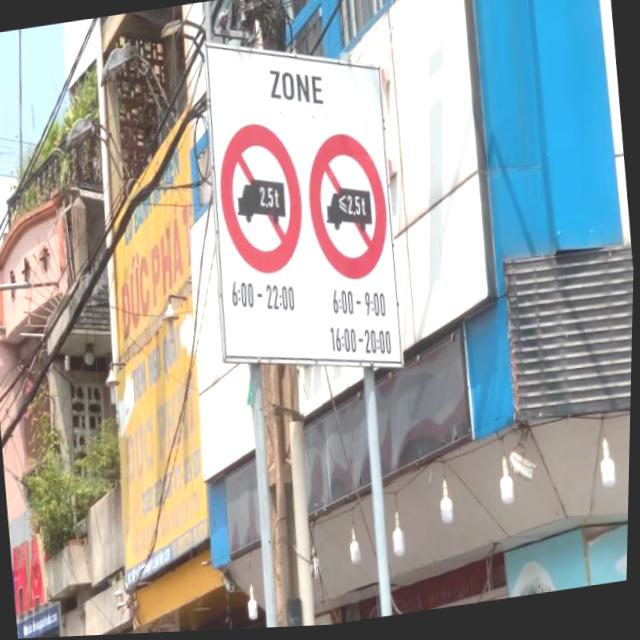Cam xe tai tren 2_5: (211, 117, 312, 283), (301, 129, 397, 291)
